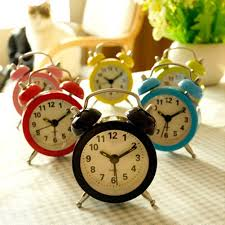alarm_clock: (83, 39, 137, 106)
